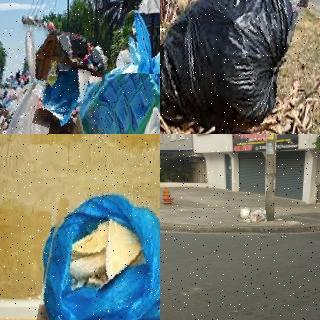Garbage: (160, 0, 306, 131), (33, 188, 160, 320), (0, 22, 99, 134), (67, 68, 160, 134), (123, 7, 160, 134), (37, 63, 87, 133), (249, 210, 267, 223), (239, 207, 252, 218)
